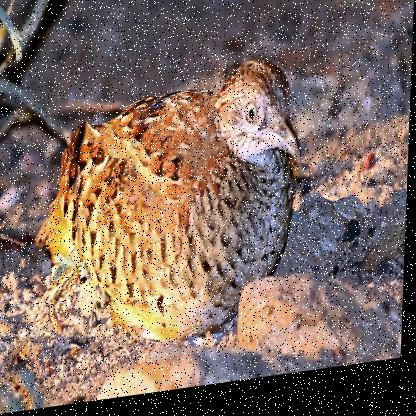Burung: (55, 61, 305, 362)
